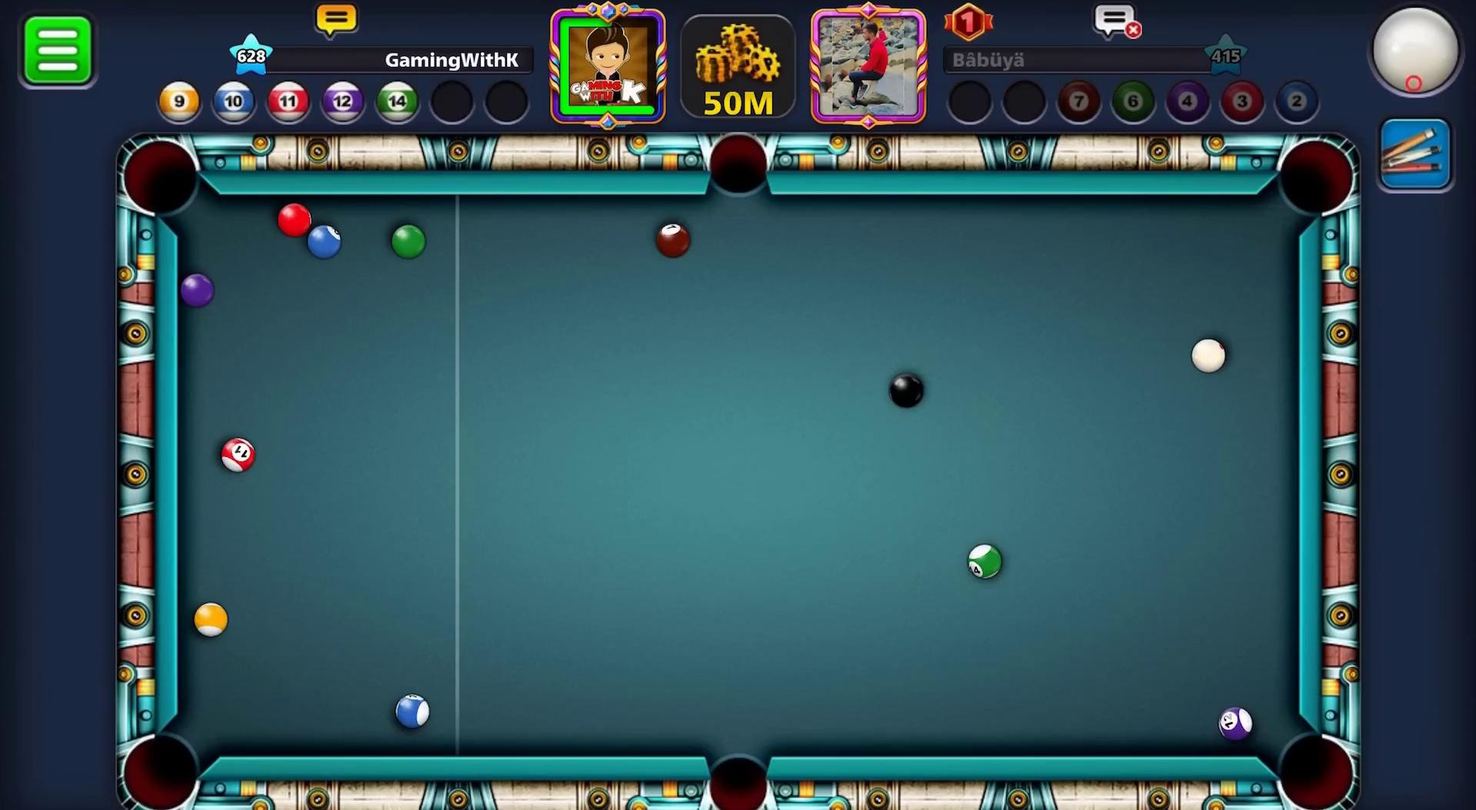Ball: (272, 190, 320, 246), (296, 222, 346, 268), (645, 216, 696, 260), (1212, 701, 1260, 746), (882, 368, 930, 412), (963, 538, 1005, 586), (177, 265, 217, 313), (391, 692, 430, 731), (387, 222, 425, 260), (192, 601, 229, 640), (218, 434, 254, 472)
Hole: (111, 123, 221, 232), (102, 718, 221, 809), (1264, 126, 1364, 232), (1257, 717, 1366, 809), (692, 122, 786, 215), (691, 740, 783, 809)
Play_Area: (178, 195, 1294, 756)
Spin: (1361, 0, 1475, 114)
White: (1188, 331, 1231, 381)
